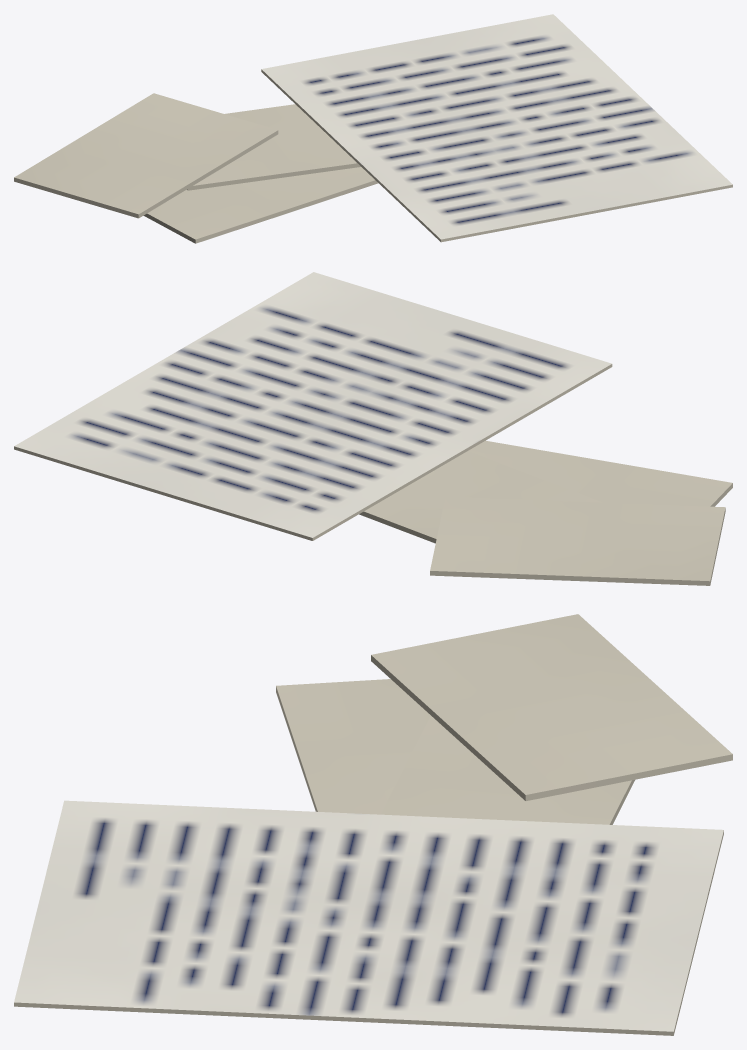
The model's file is letters_prison.fbx.
3 renders of one model, top to bottom at view 1: azimuth 30°, elevation 25°; view 2: azimuth 150°, elevation 25°; view 3: azimuth 270°, elevation 25°, orthographic. The views are drawn at different scales.
Parts seen in each view (by area): view 1: letters_prison; view 2: letters_prison; view 3: letters_prison.
Boxes of the visible parts, x1,y1,x2,y2 form: letters_prison: (14, 14, 732, 243); letters_prison: (14, 272, 732, 585); letters_prison: (14, 614, 732, 1035).
Size of the model in its own units: 0.4332 by 0.0095 by 0.3143.
1 material, 1 textured.
